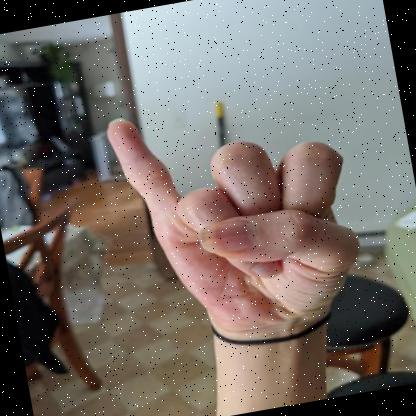I: (106, 117, 360, 342)
